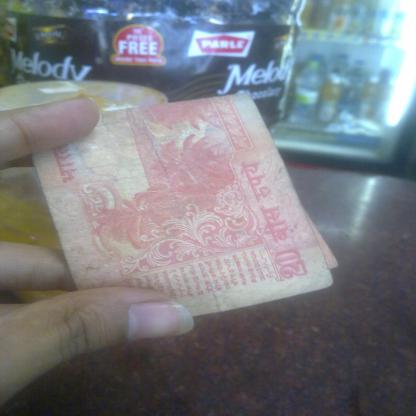Old20Back: (34, 95, 316, 307)
